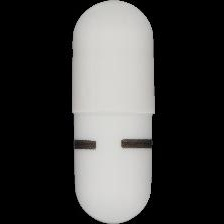63304-479: (0, 0, 224, 224)
